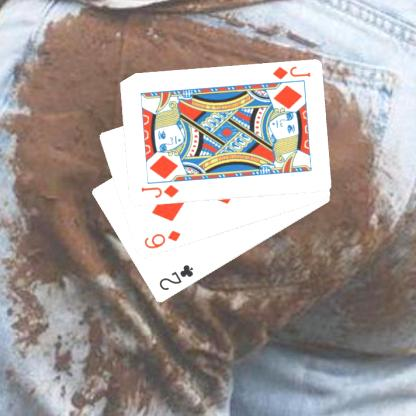2C: (156, 262, 195, 292)
6D: (141, 228, 182, 251)
JD: (138, 182, 180, 199), (270, 64, 312, 81)
